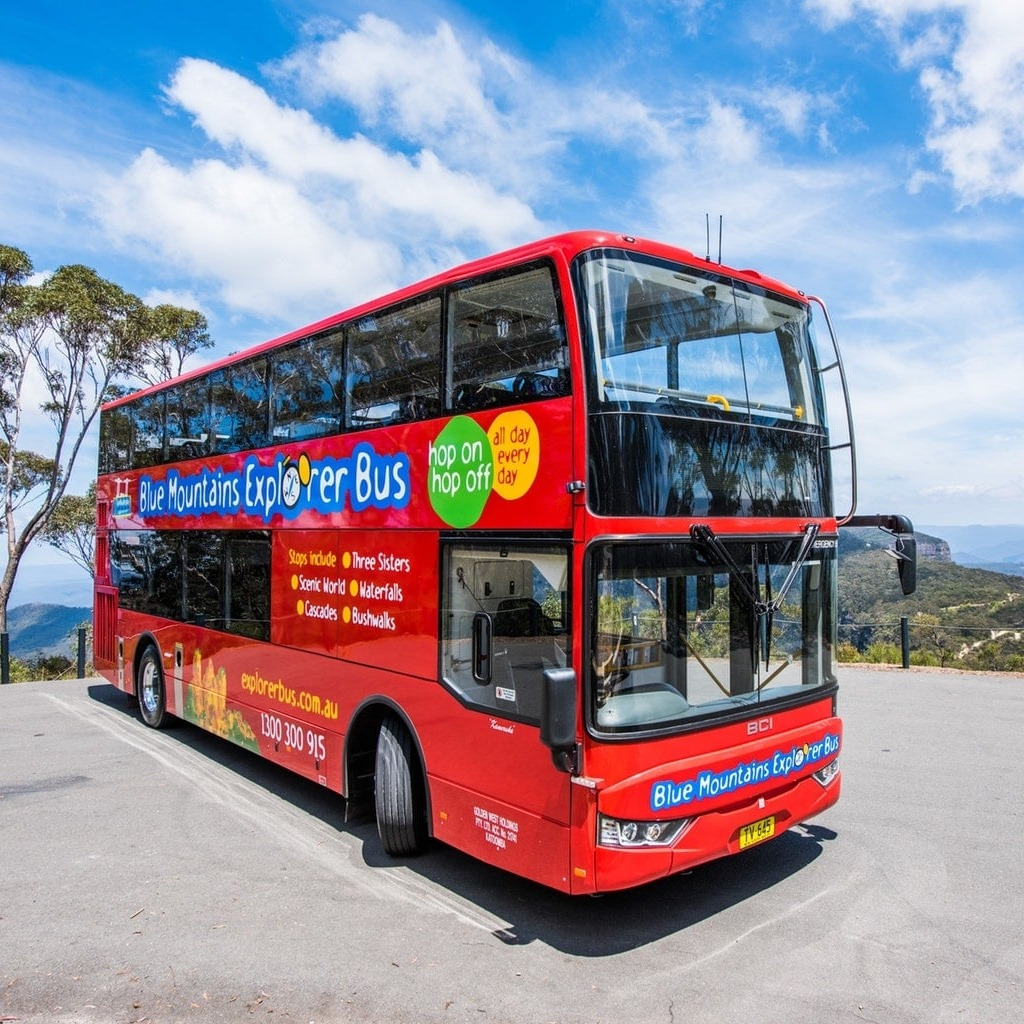red_busess: (91, 228, 857, 895)
